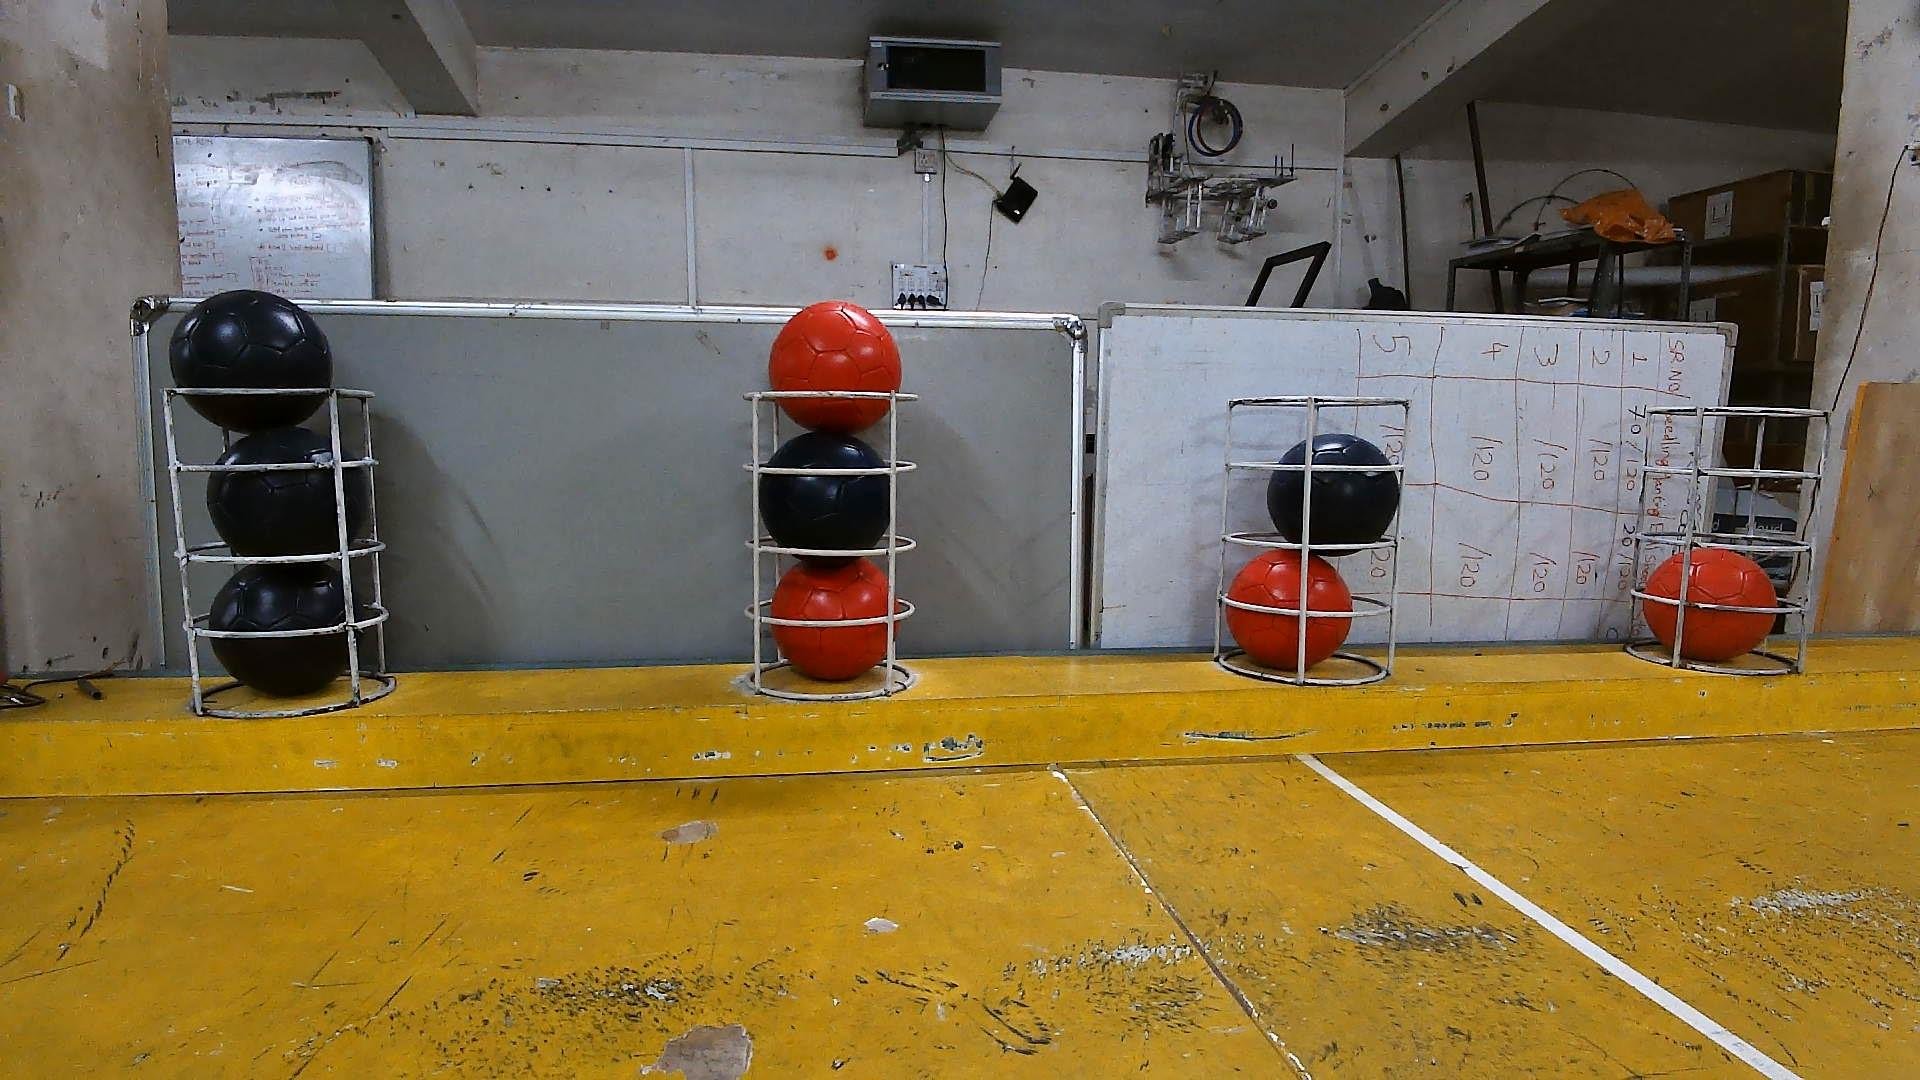dhoka: (169, 289, 338, 439), (204, 560, 365, 695), (208, 426, 367, 562), (757, 427, 889, 551), (1267, 431, 1403, 546)
laale: (769, 301, 903, 431), (1226, 549, 1354, 673), (773, 559, 899, 683), (1635, 547, 1770, 661)
